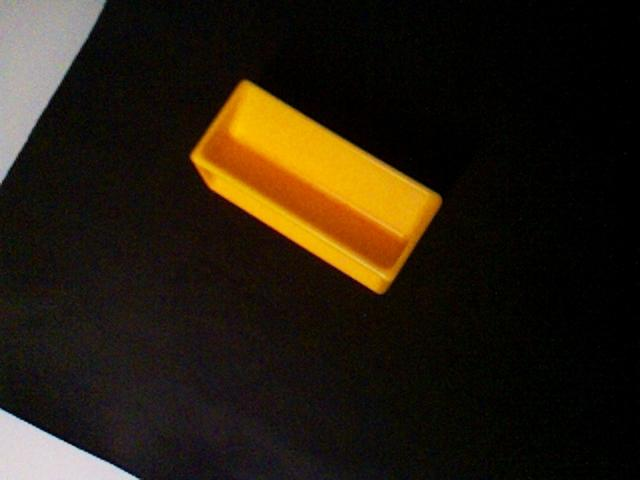yellow: (189, 78, 444, 296)
